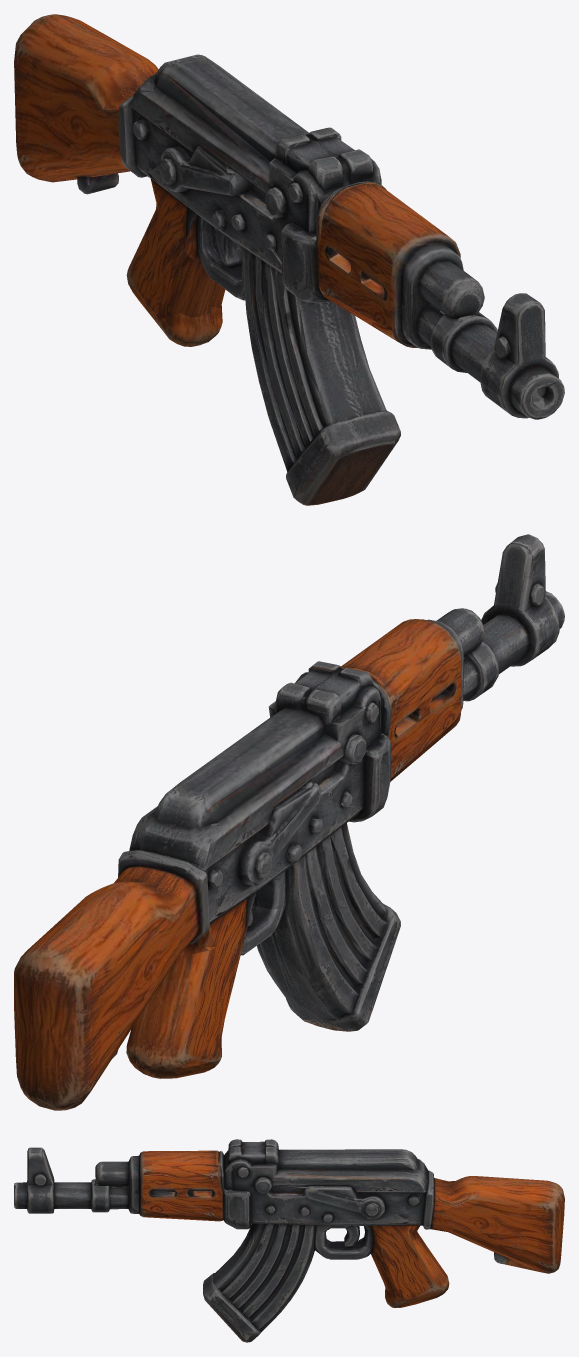
The model's file is gun_chopper.glb.
3 renders of one model, top to bottom at view 1: azimuth 30°, elevation 25°; view 2: azimuth 150°, elevation 25°; view 3: azimuth 270°, elevation 25°, orthographic. The views are drawn at different scales.
Bounding box in the file's own units: 0.1765 × 0.5752 × 1.5.
Materials: 1 (1 with a texture image).
